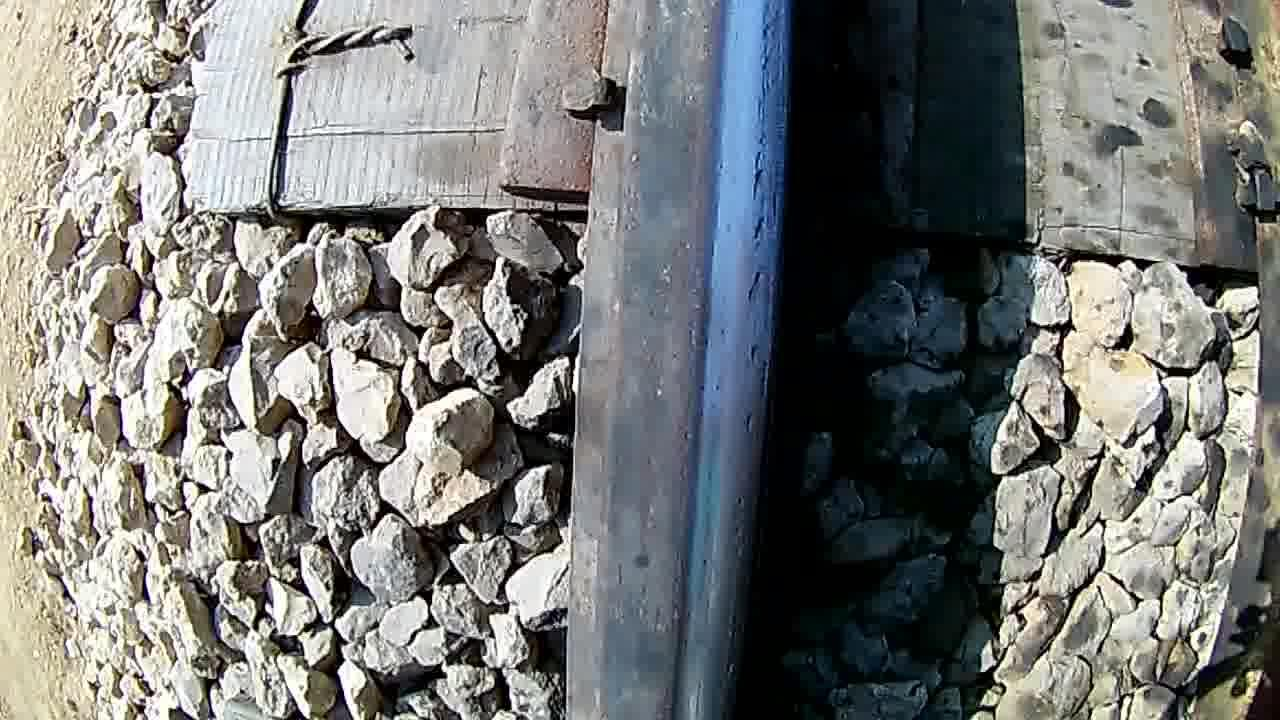crack: (619, 0, 793, 720)
